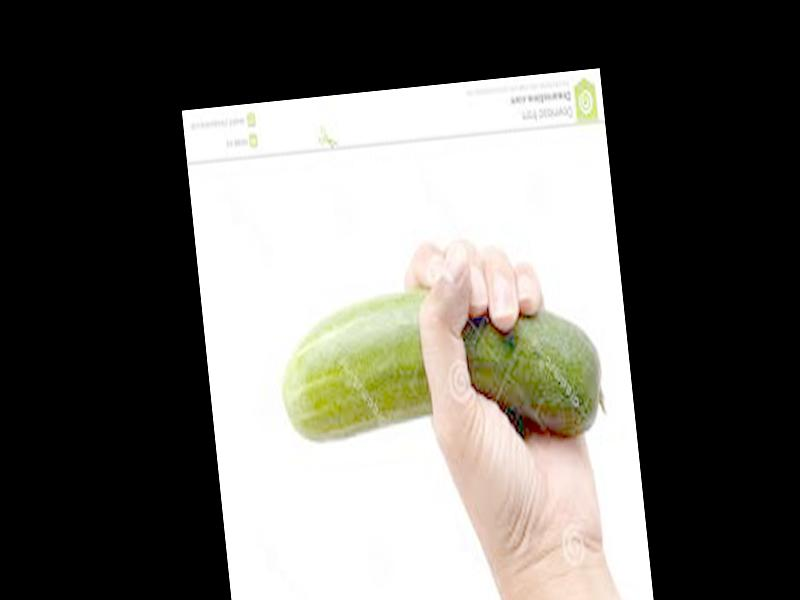Cucumber: (272, 270, 604, 463)
